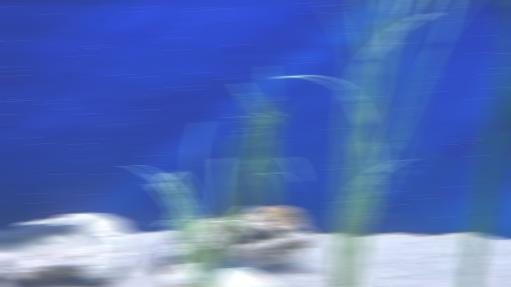Fish: (0, 218, 93, 251)
